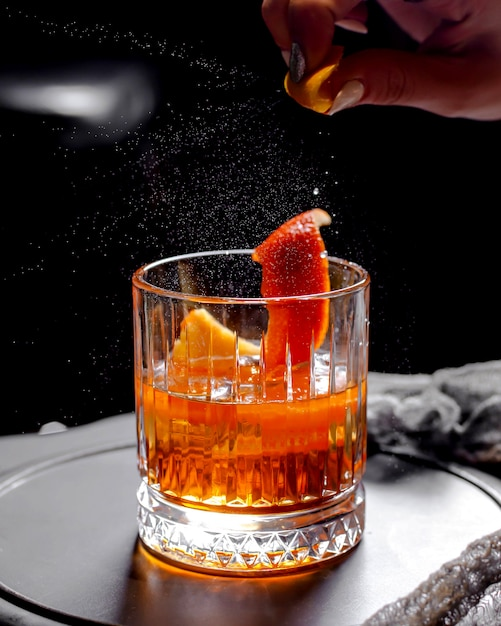alcohol: (128, 207, 372, 580)
